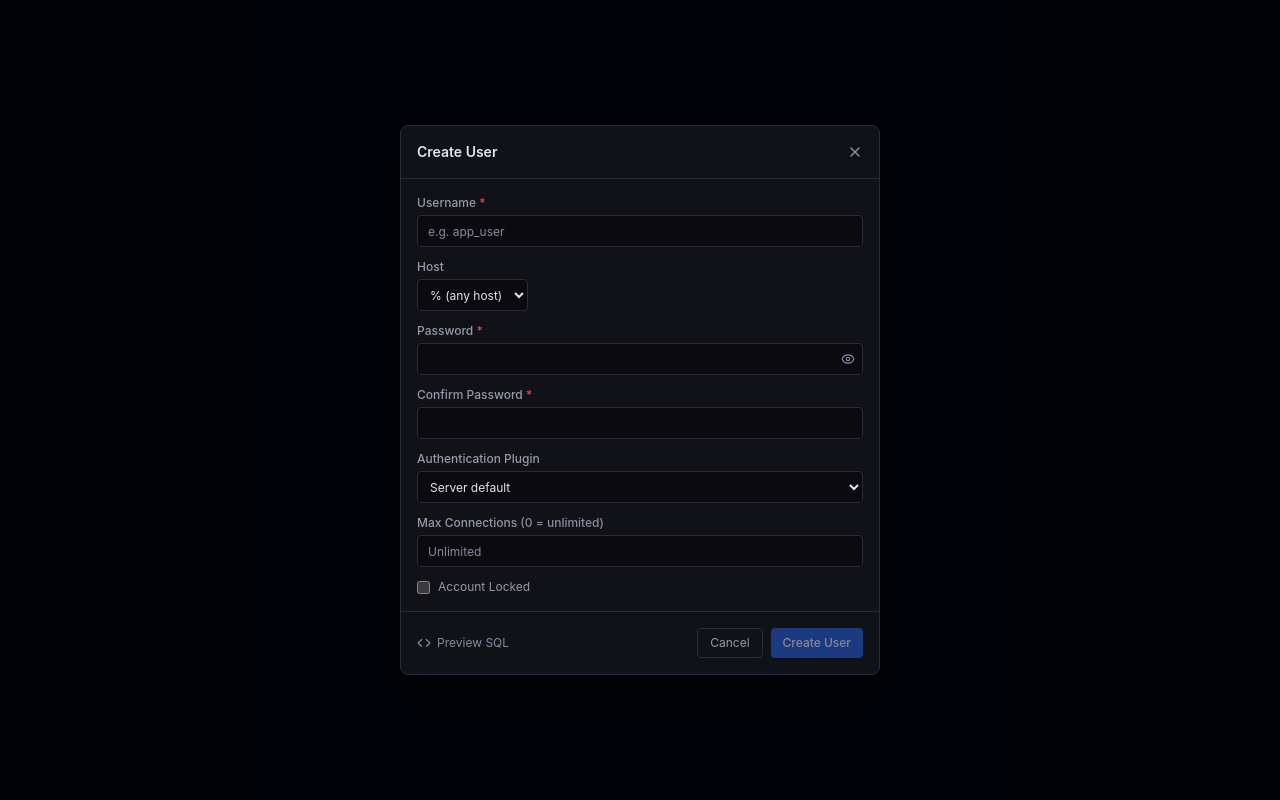
Test: CreateUserDialog › enables Create User when all required fields are filled
The width and height of the screenshot is (1280, 800).
Type "newuser" into the field with placeholder "e.g. app_user".
click(640, 231); type("newuser")  # box x1=417 y1=215 x2=863 y2=247
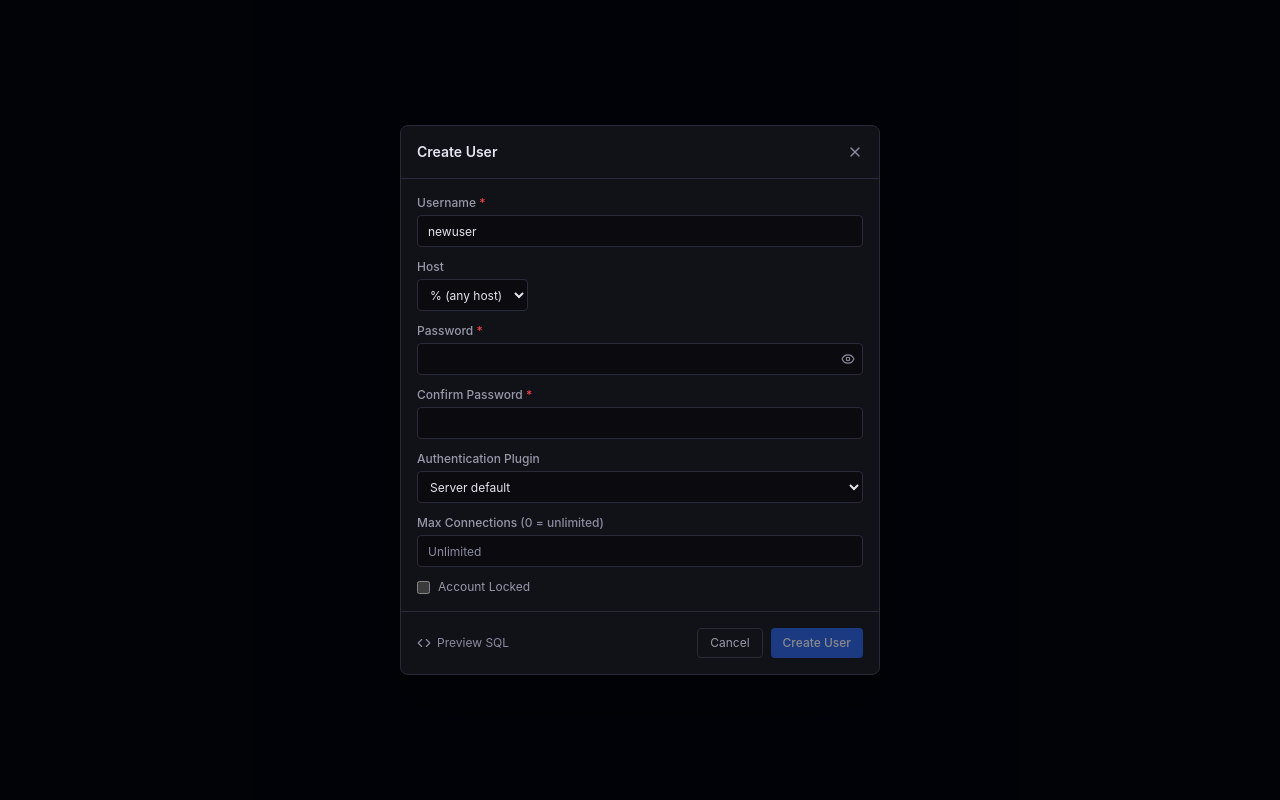
Type "pass123" into the 1st password field.
click(640, 359); type("pass123")  # box x1=417 y1=343 x2=863 y2=375
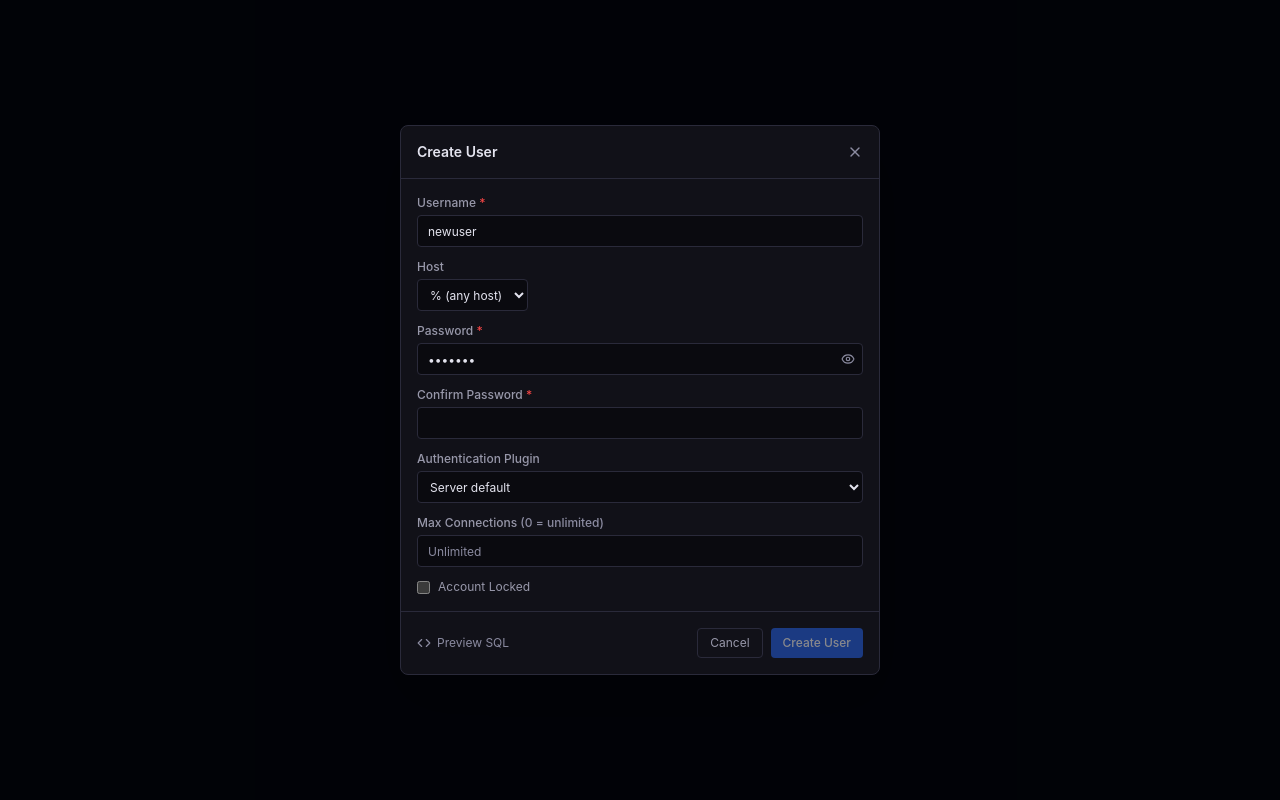
Type "pass123" into the password field below "Confirm Password".
click(640, 423); type("pass123")  # box x1=417 y1=407 x2=863 y2=439
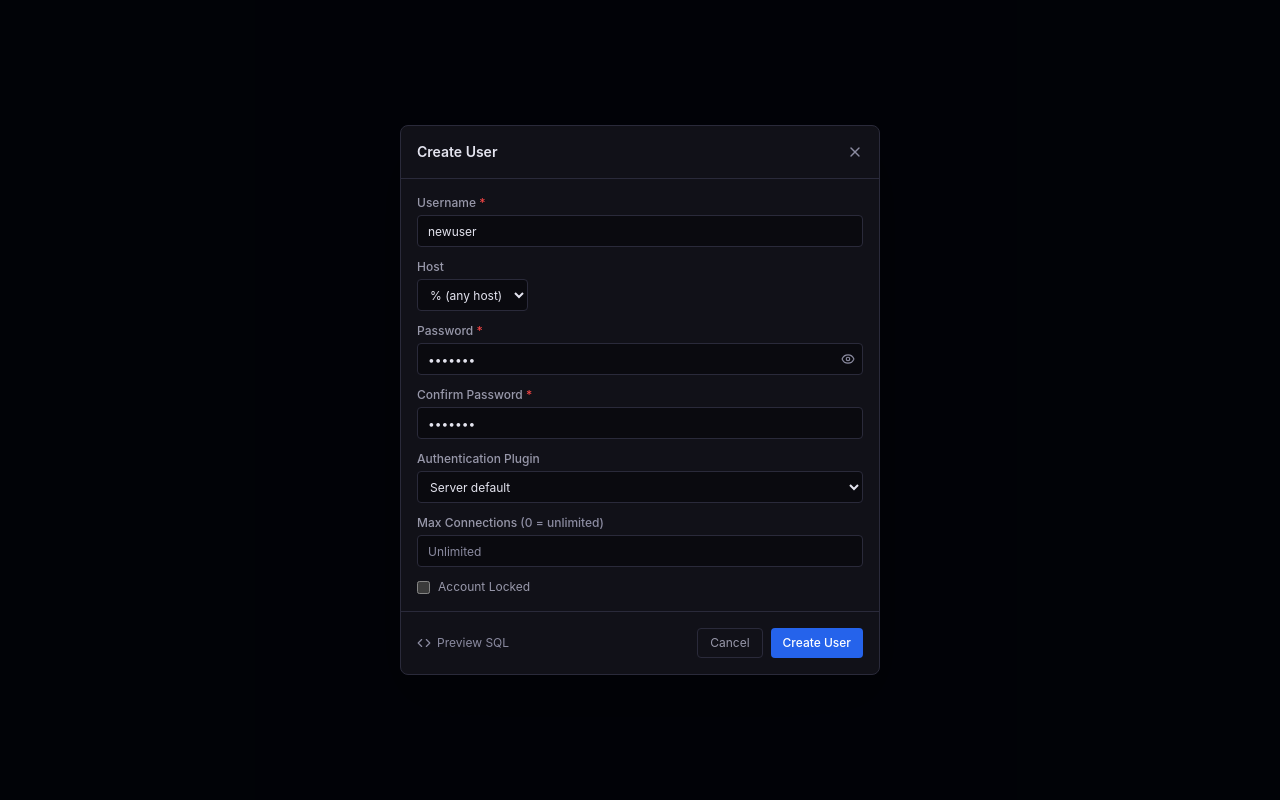
Now the button "Create User" is enabled, box x1=770 y1=628 x2=863 y2=658
